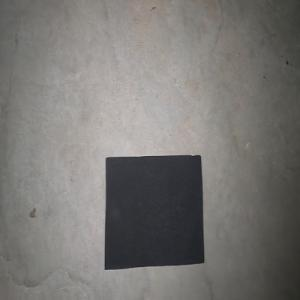PaintChip: (104, 154, 204, 270)
